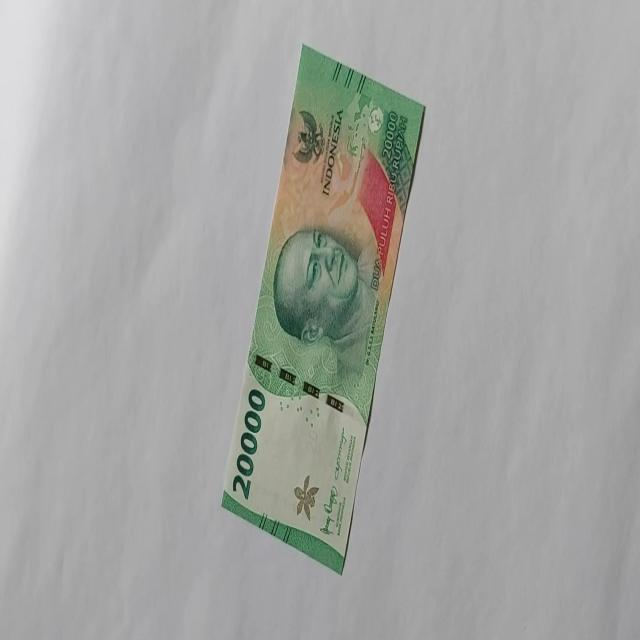dua puluh ribu rupiah: (220, 42, 426, 576)
